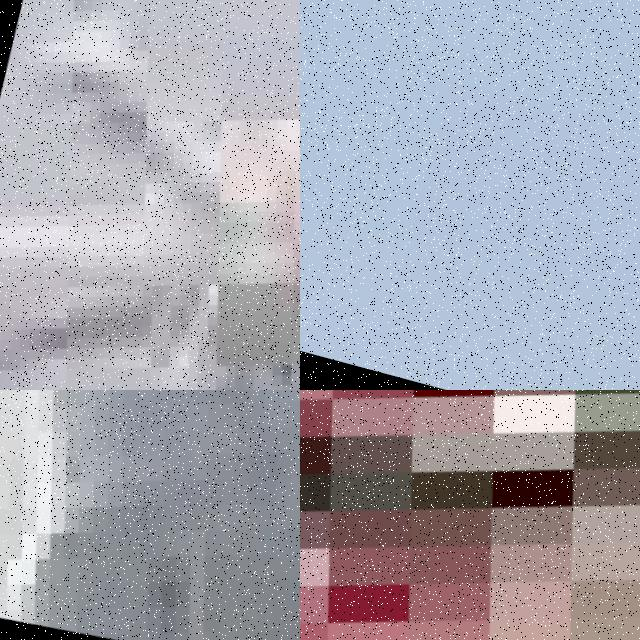0: (0, 0, 300, 390)
drone: (300, 390, 640, 640), (0, 390, 300, 640)
